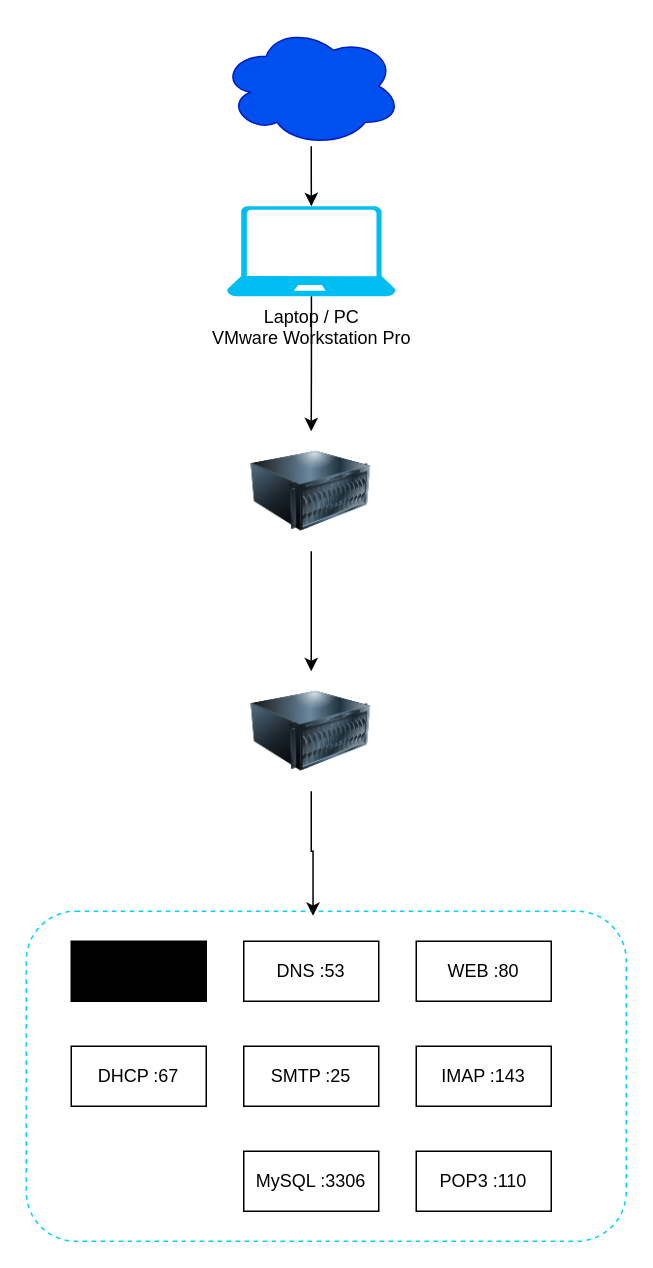
This 653x1268 diagram has some shape labels left out. The centre of each missing label's shape, as x and y in pixels:
"INTERNET" goes at (x=310, y=85).
"Proxmox VE 8.4 IP: 192.168.1.20:8006" goes at (x=310, y=490).
